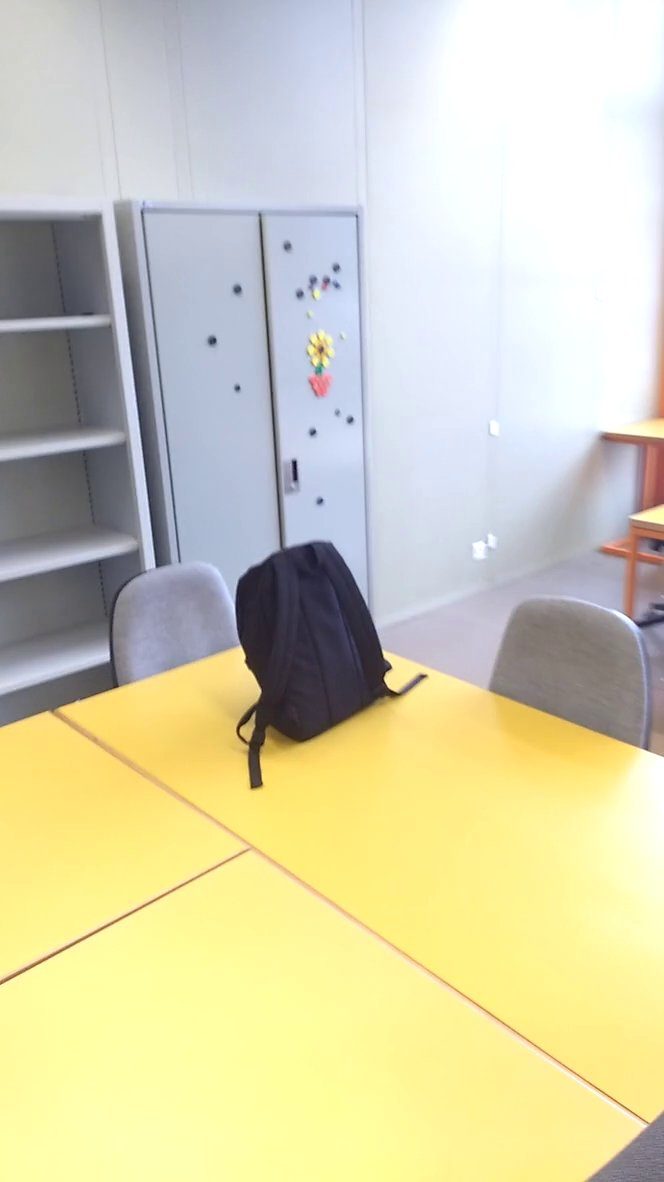bag: (230, 535, 434, 790)
chair: (480, 590, 664, 765), (96, 550, 264, 697)
